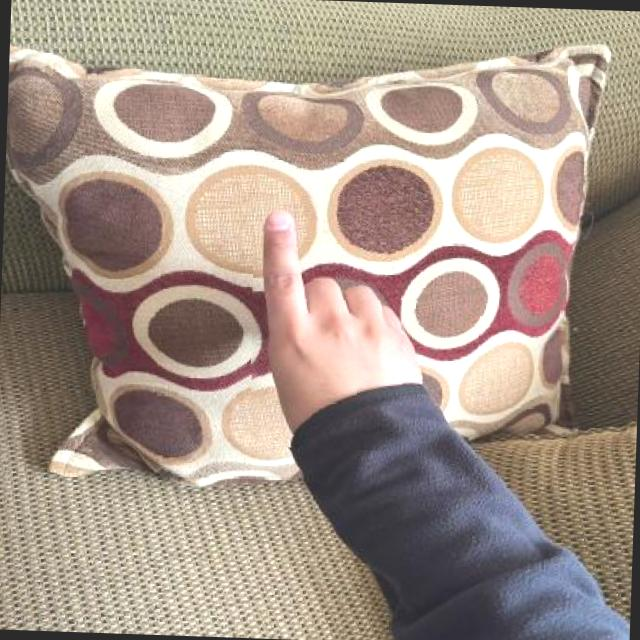T: (246, 193, 428, 452)
